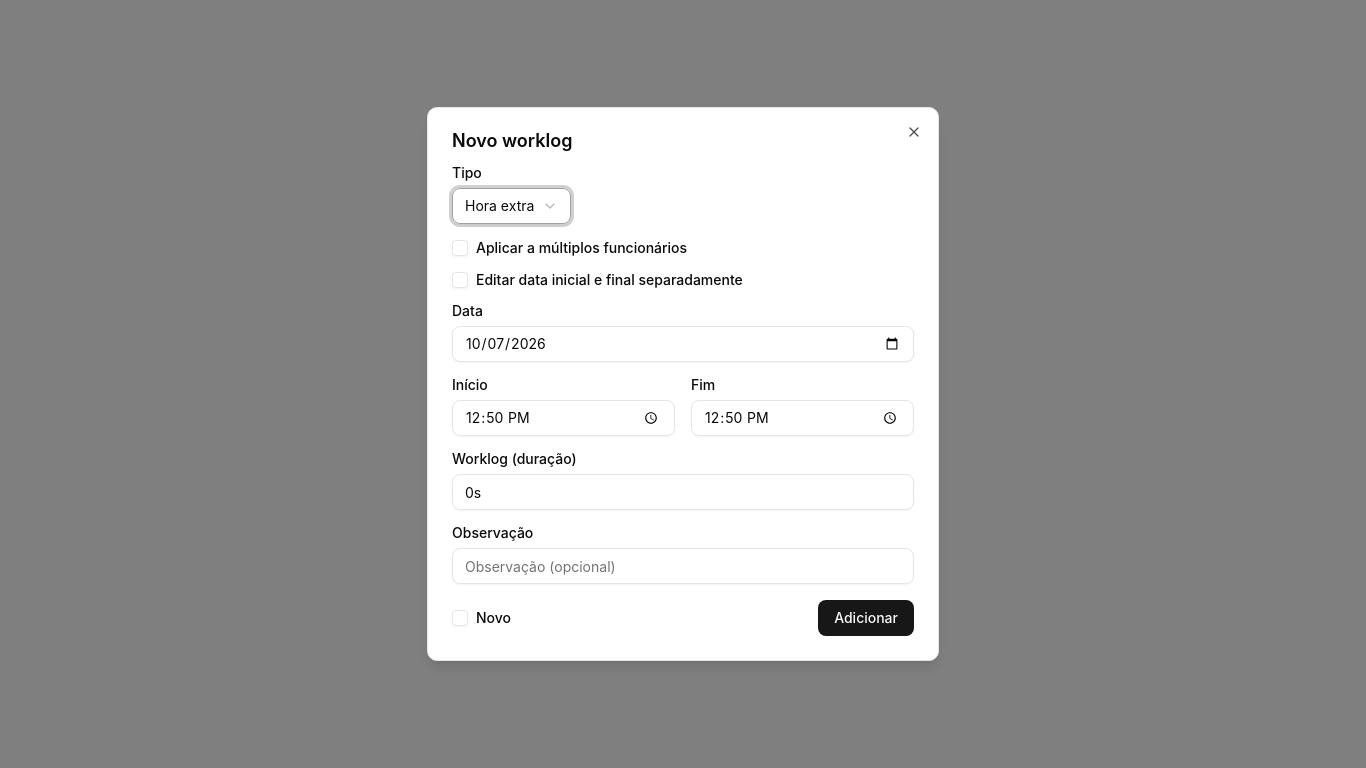
Test: WorkLogFormModal › bulk create (multiple employees) › #4 keeps the modal open and renders per-employee results when there is a partial failure
The width and height of the screenshot is (1366, 768).
Click the checkbox named "aplicar a múltiplos funcionários" next to "Aplicar a múltiplos funcionários" at (460,248), box 452,240 -> 468,256
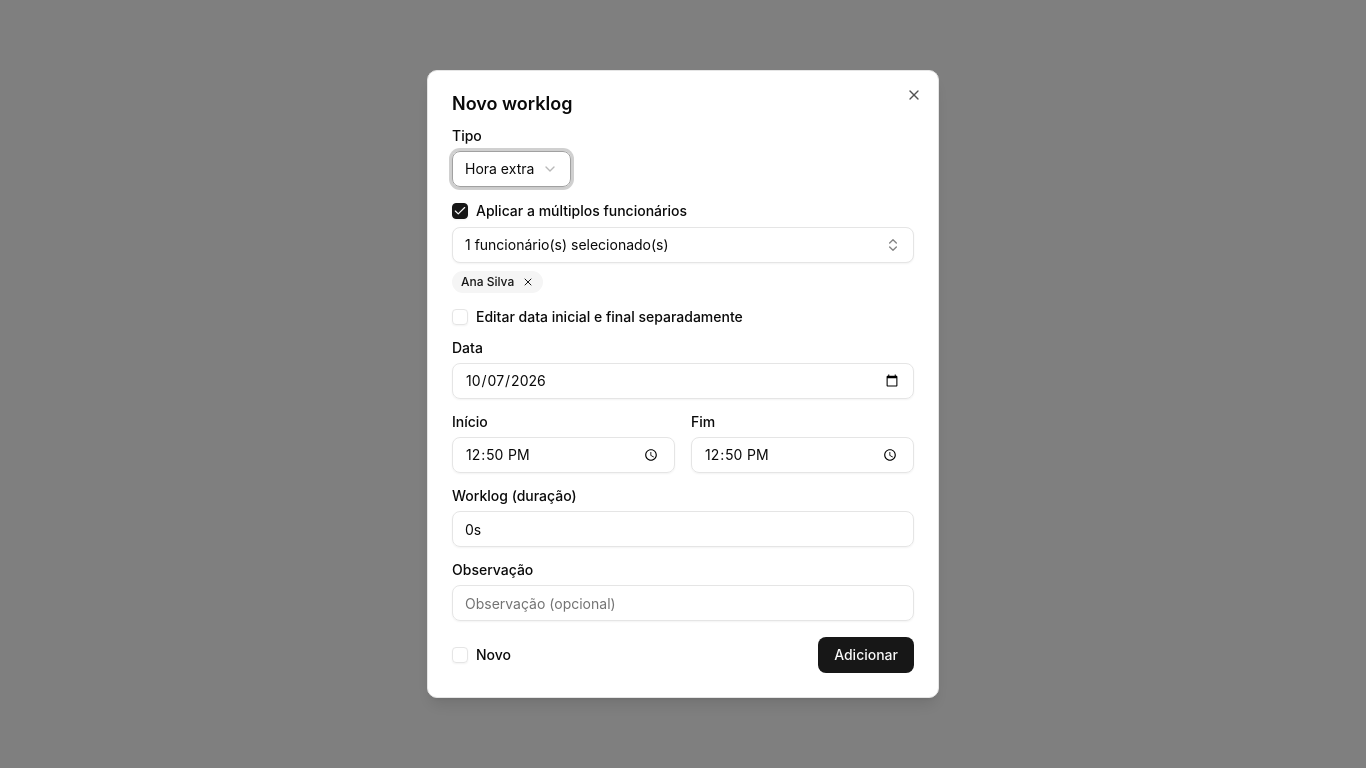
Click the dropdown named "Funcionários" at (567,244), box 452,227 -> 914,263
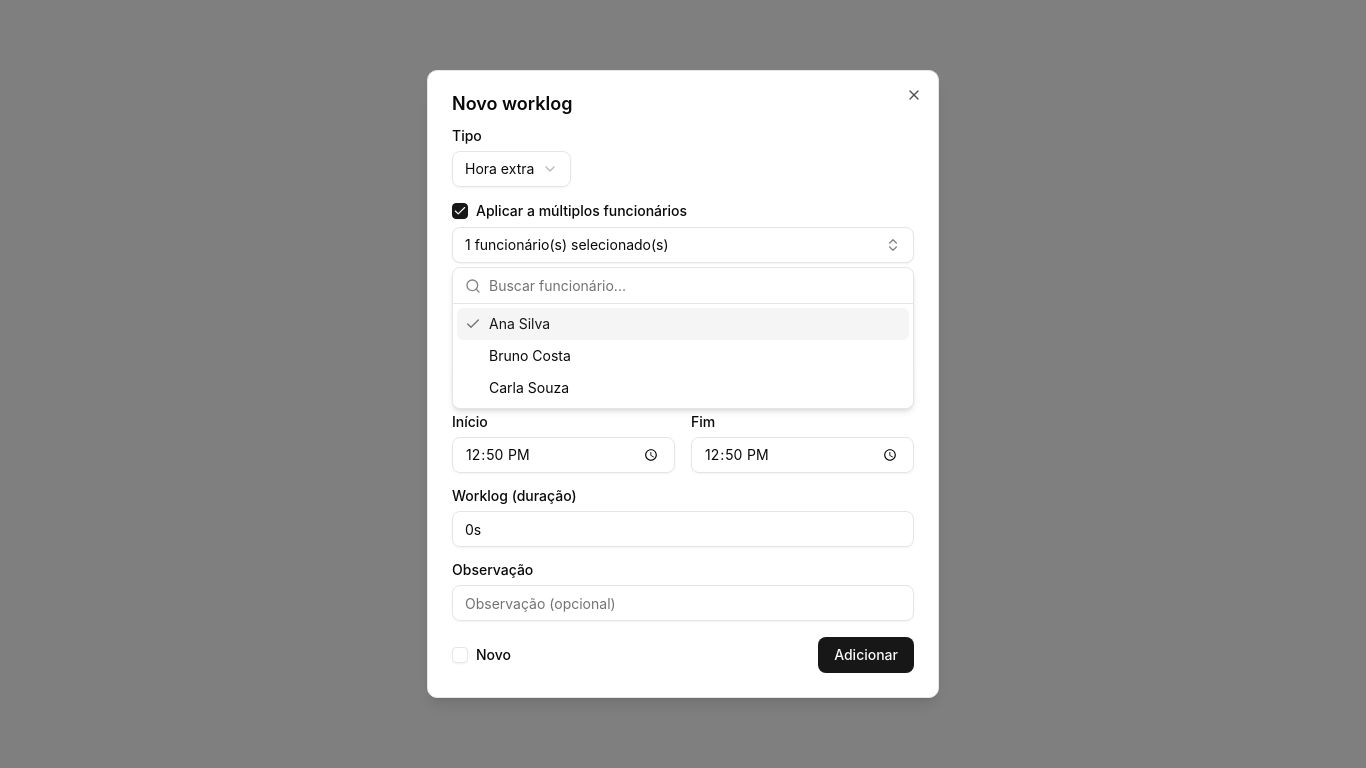
Click the option "Bruno Costa" at (530,356), box 489,347 -> 571,364
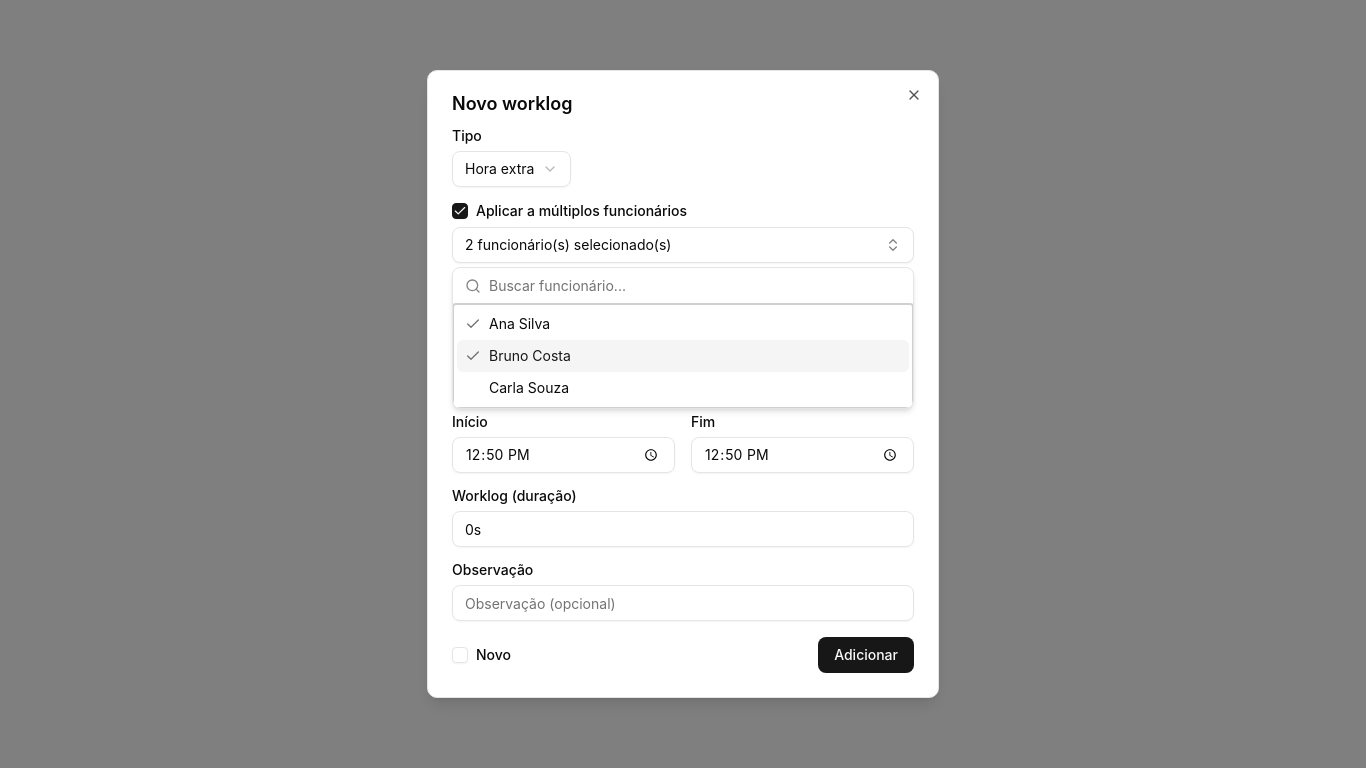
Click the button "Adicionar" at (866,655), box 818,637 -> 914,673
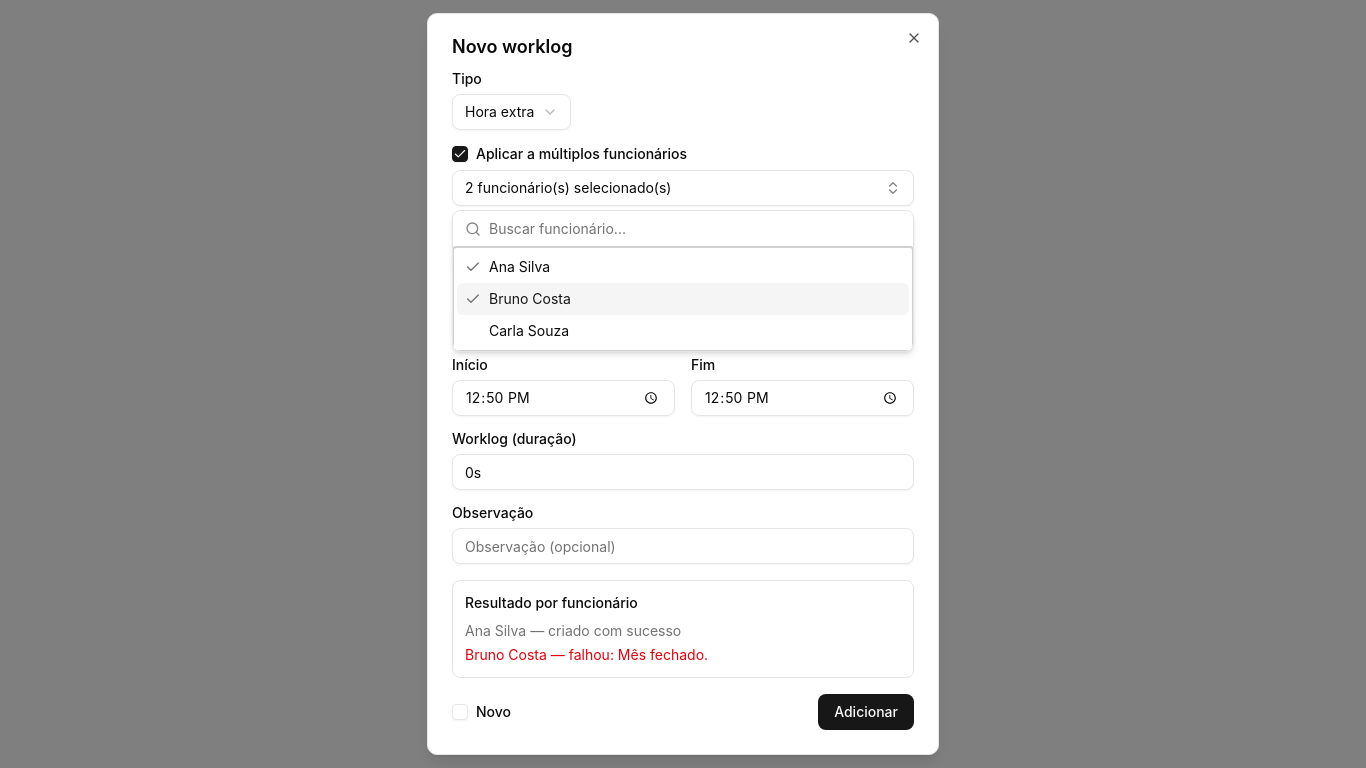
Expected: the list item "Bruno Costa — falhou: Mês fechado." is shown, 465,646 -> 708,663
Expected: the list item "Ana Silva — criado com sucesso" is shown, 465,622 -> 681,639
